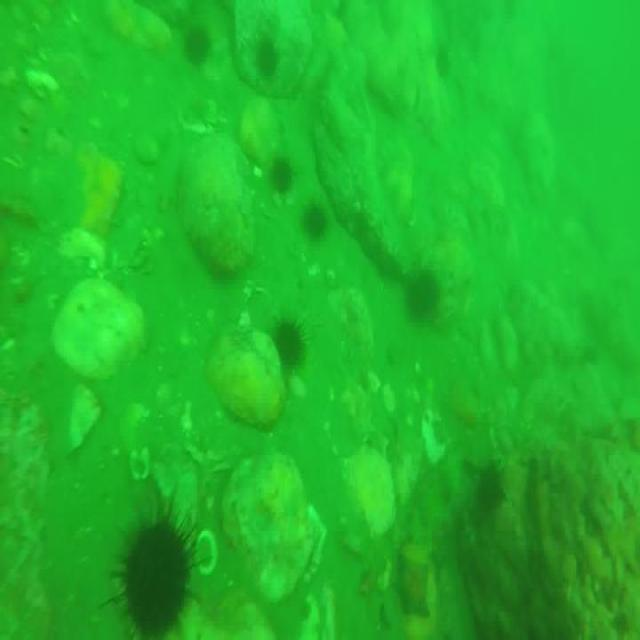echinus: (106, 496, 217, 640), (272, 319, 307, 373), (474, 458, 506, 517), (404, 275, 442, 322), (303, 202, 330, 245), (256, 38, 279, 79), (186, 28, 212, 60), (272, 161, 293, 193)
scallop: (195, 525, 222, 575), (130, 131, 159, 168), (128, 450, 156, 482)
